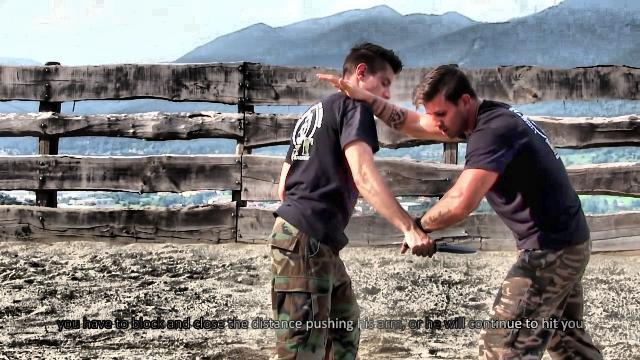knife: (396, 235, 480, 257)
